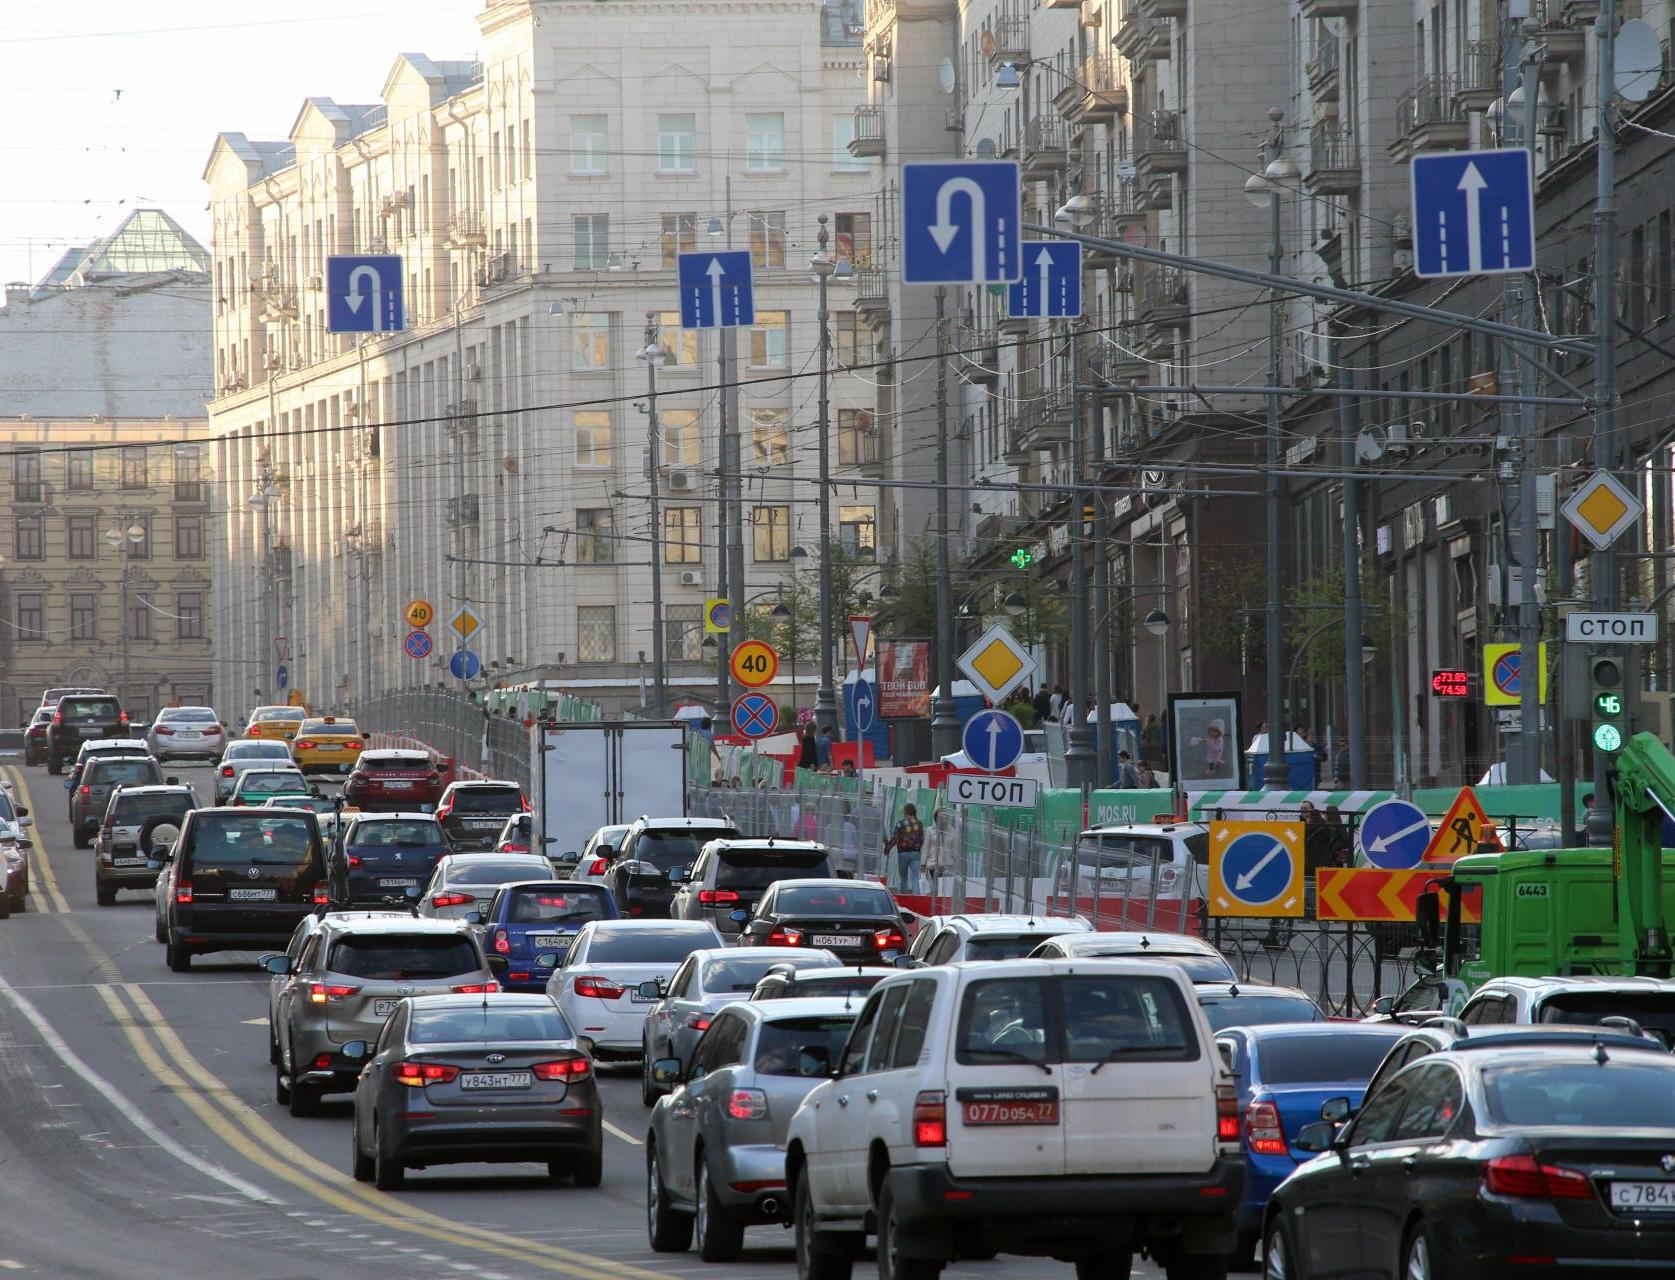sign: (1401, 143, 1541, 282), (891, 151, 1030, 288), (1215, 813, 1305, 920), (1555, 458, 1648, 551), (672, 243, 764, 335), (321, 247, 409, 337), (1424, 788, 1511, 877), (956, 618, 1042, 705), (1356, 792, 1430, 877), (1563, 604, 1658, 653), (960, 710, 1026, 774), (1481, 641, 1549, 705), (946, 766, 1036, 812), (730, 631, 781, 688), (729, 687, 781, 741), (846, 671, 876, 733), (846, 612, 876, 672), (445, 602, 487, 647), (448, 649, 484, 683), (405, 600, 432, 628), (405, 631, 433, 657)
